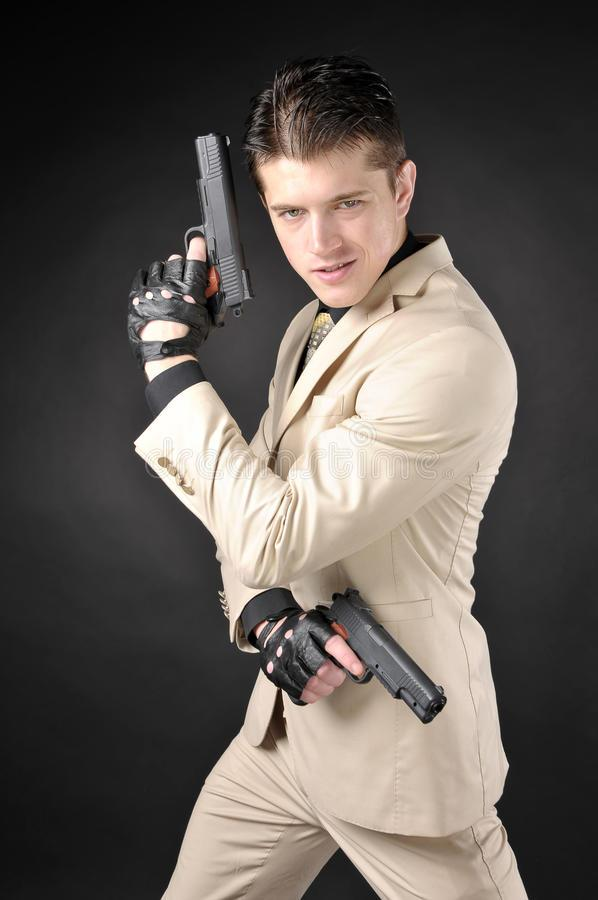criminal: (125, 60, 538, 900)
weapon: (306, 584, 456, 729), (155, 126, 262, 322)
